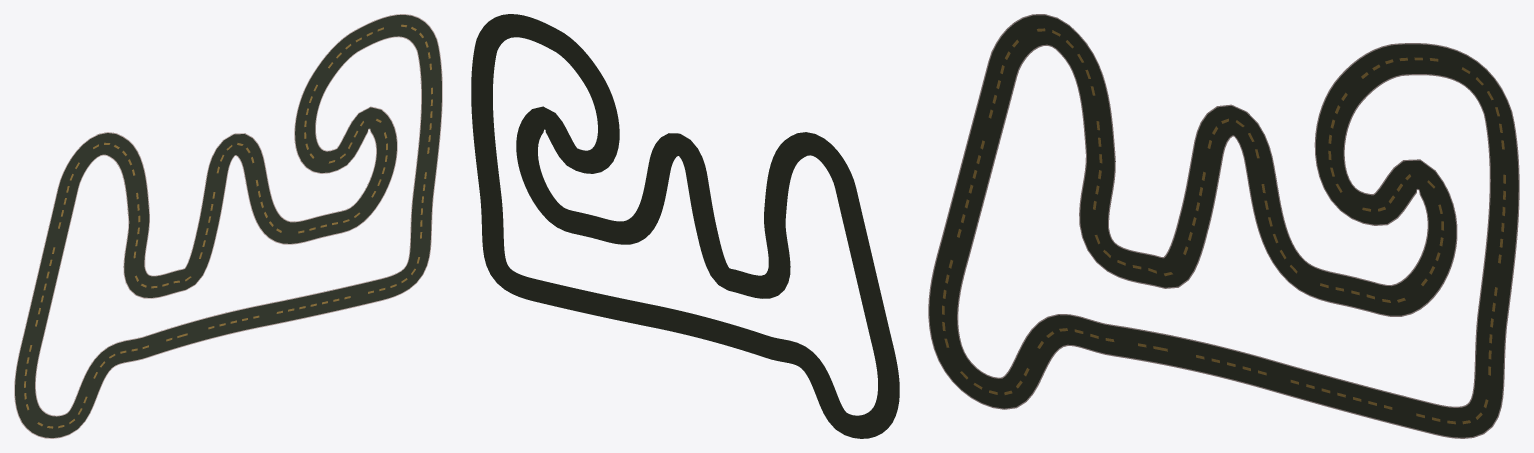
Rendered from track.obj.
The picture shows the model from 3 angles, left to right: view 1: azimuth 30°, elevation 25°; view 2: azimuth 150°, elevation 25°; view 3: azimuth 330°, elevation 25°; orthographic projection. The views are drawn at different scales.
Bounding box in the file's own units: 21.06 × 16.07 × 0.002.
